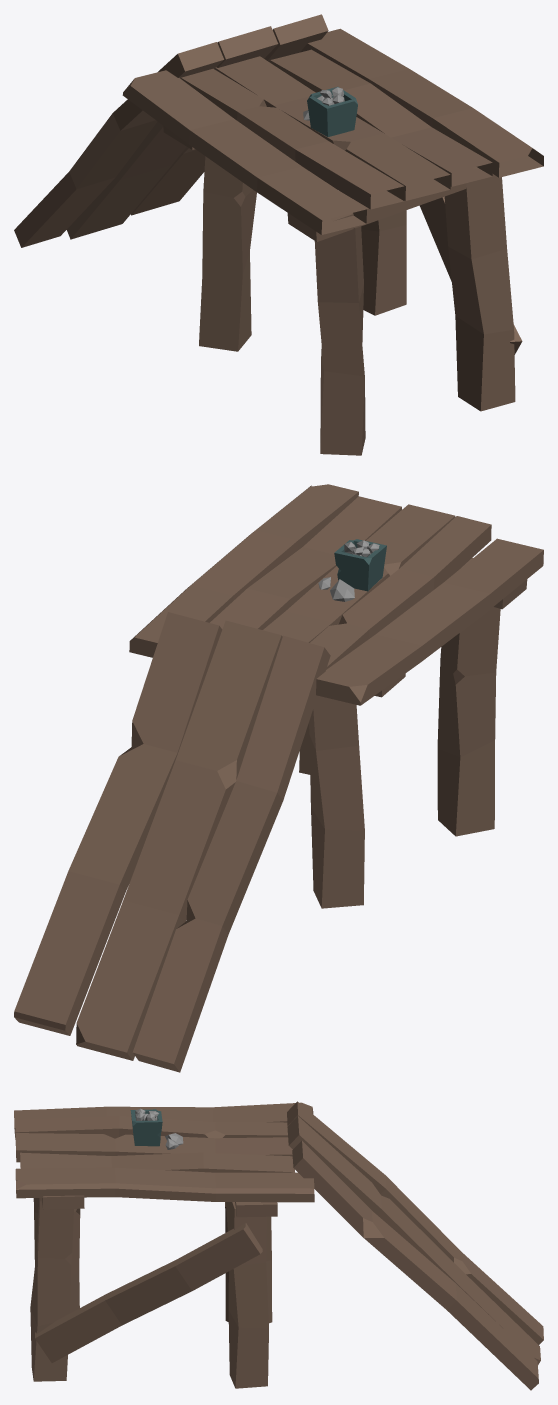
File: env1.fbx
The picture shows the model from 3 angles, top to bottom: view 1: azimuth 30°, elevation 25°; view 2: azimuth 150°, elevation 25°; view 3: azimuth 270°, elevation 25°; orthographic projection. The views are drawn at different scales.
Parts seen in each view (by area): view 1: Cube.004; view 2: Cube.004; view 3: Cube.004.
Part boxes in pixels (x1,y1,x2,y2): Cube.004: (14, 14, 543, 455); Cube.004: (14, 484, 543, 1072); Cube.004: (14, 1101, 543, 1390).
Size of the model in its own units: 2.15 by 2.76 by 5.21.
